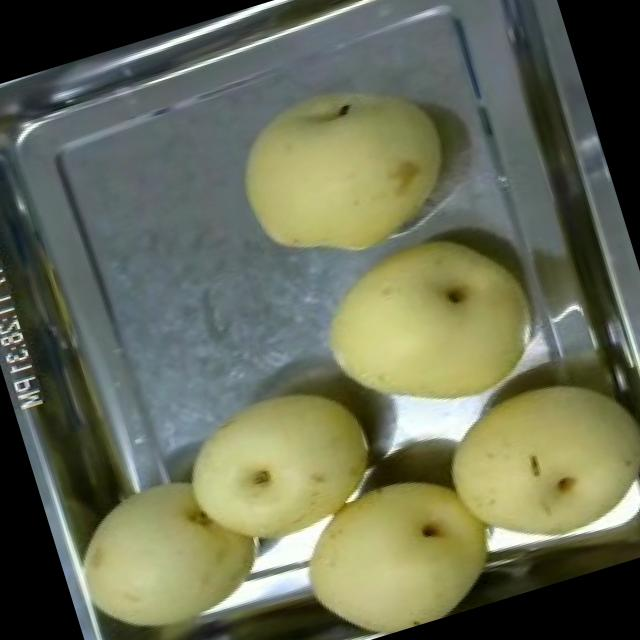Fruit: (288, 198, 562, 448), (209, 53, 475, 295), (412, 338, 640, 588), (158, 357, 406, 586), (265, 433, 525, 640), (47, 447, 288, 640)
